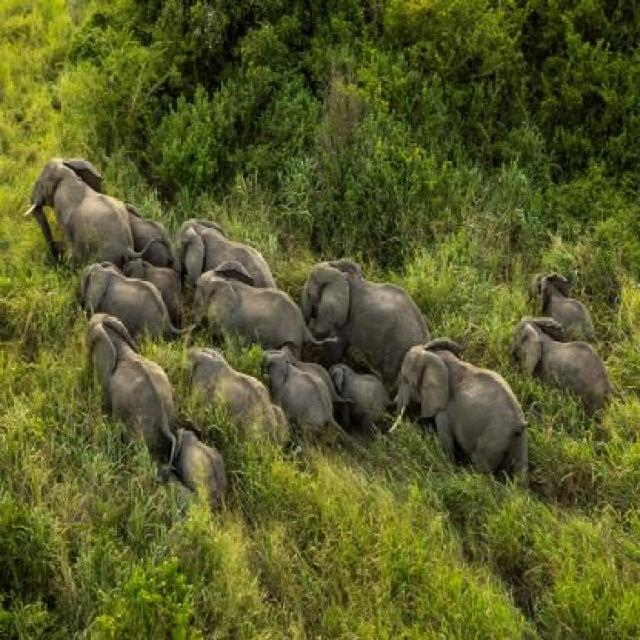elephant: (400, 318, 534, 500), (73, 292, 176, 450), (502, 301, 612, 441), (28, 138, 148, 248), (176, 336, 276, 466), (307, 260, 428, 358), (196, 265, 310, 360), (68, 235, 178, 318), (187, 212, 276, 300), (147, 433, 231, 516), (261, 351, 333, 438), (326, 351, 408, 424), (528, 254, 594, 343), (134, 248, 188, 324), (133, 203, 196, 248)
